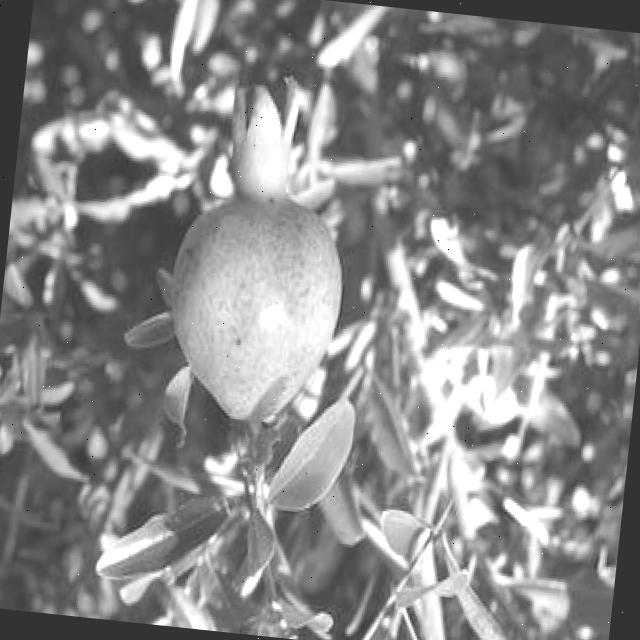Pomegranate: (153, 62, 364, 434)
